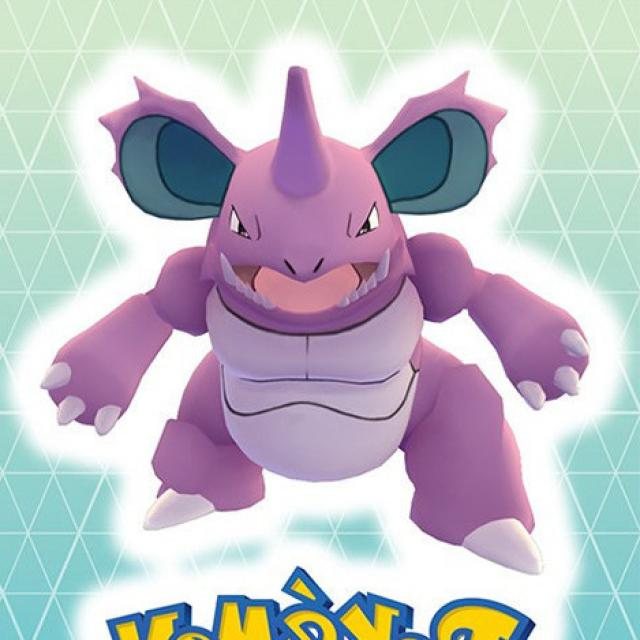Nidoking: (98, 73, 540, 517)
